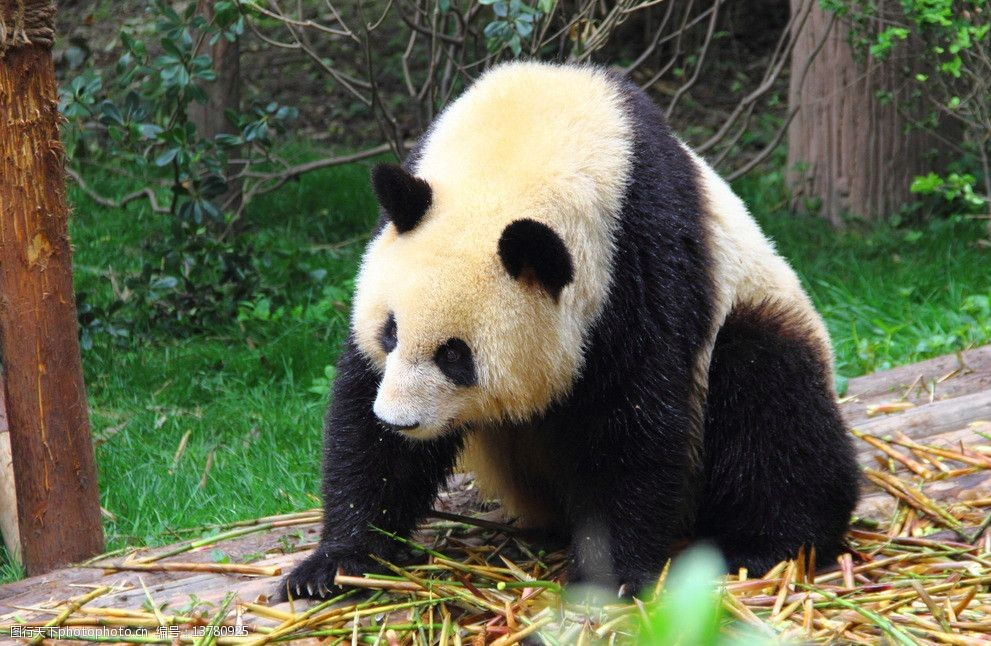panda: (294, 61, 869, 588)
